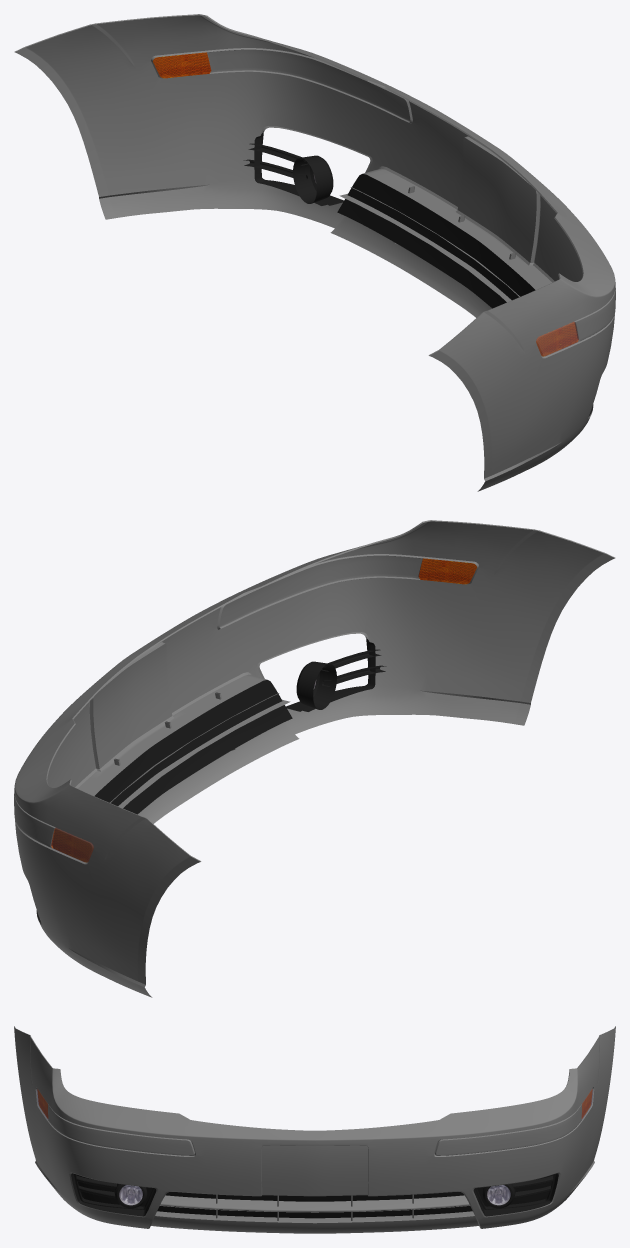
The picture shows the model from 3 angles, top to bottom: view 1: azimuth 30°, elevation 25°; view 2: azimuth 150°, elevation 25°; view 3: azimuth 270°, elevation 25°; orthographic projection. The views are drawn at different scales.
Parts seen in each view (by area): view 1: P158_021G_C_P158_021G_C_6_DaS, P158_021G_C_P158_021G_C_6_DaS_E, P158_021G_C_P158_021G_C_7_D, P158_021G_C_P158_021G_C_3_D, P158_021G_C_P158_021G_C_2_N, P158_021G_C_P158_021G_C_8_DTaSI, P158_021G_C_1_N_P158_021G_C; view 2: P158_021G_C_P158_021G_C_6_DaS, P158_021G_C_P158_021G_C_6_DaS_E, P158_021G_C_P158_021G_C_7_D, P158_021G_C_P158_021G_C_3_D, P158_021G_C_1_N_P158_021G_C, P158_021G_C_P158_021G_C_9_DTaSI, P158_021G_C_P158_021G_C_2_N; view 3: P158_021G_C_P158_021G_C_6_DaS, P158_021G_C_P158_021G_C_6_DaS_E, P158_021G_C_P158_021G_C_3_D, P158_021G_C_P158_021G_C_7_D, P158_021G_C_P158_021G_C_4_N, P158_021G_C_P158_021G_C_5_N, P158_021G_C_P158_021G_C_10_DTaSI, P158_021G_C_P158_021G_C_11_DTaSI.
Part boxes in pixels (bbox=[...]): P158_021G_C_P158_021G_C_6_DaS: bbox=[15, 15, 615, 491]; P158_021G_C_P158_021G_C_6_DaS_E: bbox=[14, 14, 615, 418]; P158_021G_C_P158_021G_C_7_D: bbox=[337, 174, 535, 308]; P158_021G_C_P158_021G_C_3_D: bbox=[243, 131, 593, 416]; P158_021G_C_P158_021G_C_2_N: bbox=[153, 52, 211, 78]; P158_021G_C_P158_021G_C_8_DTaSI: bbox=[536, 322, 578, 356]; P158_021G_C_1_N_P158_021G_C: bbox=[536, 322, 578, 356]; P158_021G_C_P158_021G_C_6_DaS: bbox=[14, 521, 614, 997]; P158_021G_C_P158_021G_C_6_DaS_E: bbox=[14, 520, 615, 924]; P158_021G_C_P158_021G_C_7_D: bbox=[94, 680, 292, 814]; P158_021G_C_P158_021G_C_3_D: bbox=[36, 637, 386, 922]; P158_021G_C_1_N_P158_021G_C: bbox=[418, 558, 476, 584]; P158_021G_C_P158_021G_C_9_DTaSI: bbox=[51, 828, 93, 862]; P158_021G_C_P158_021G_C_2_N: bbox=[51, 828, 93, 862]; P158_021G_C_P158_021G_C_6_DaS: bbox=[14, 1027, 615, 1233]; P158_021G_C_P158_021G_C_6_DaS_E: bbox=[14, 1026, 615, 1228]; P158_021G_C_P158_021G_C_3_D: bbox=[71, 1173, 558, 1216]; P158_021G_C_P158_021G_C_7_D: bbox=[157, 1192, 472, 1218]; P158_021G_C_P158_021G_C_4_N: bbox=[119, 1185, 142, 1205]; P158_021G_C_P158_021G_C_5_N: bbox=[487, 1185, 510, 1205]; P158_021G_C_P158_021G_C_10_DTaSI: bbox=[487, 1185, 510, 1204]; P158_021G_C_P158_021G_C_11_DTaSI: bbox=[119, 1185, 142, 1204].
Bounding box in the file's own units: 81.95 × 51.94 × 207.
